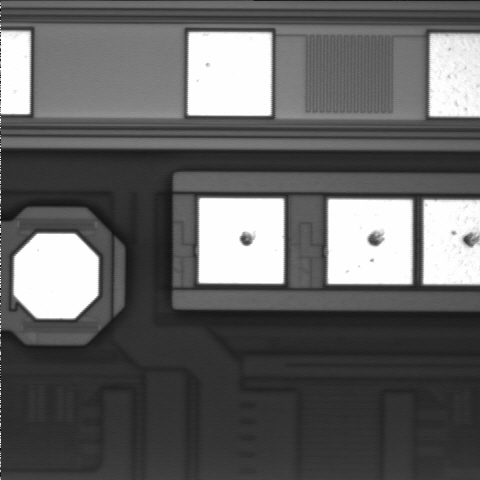pad: (199, 198, 284, 284), (328, 199, 412, 284), (14, 234, 98, 319), (188, 32, 271, 116)
